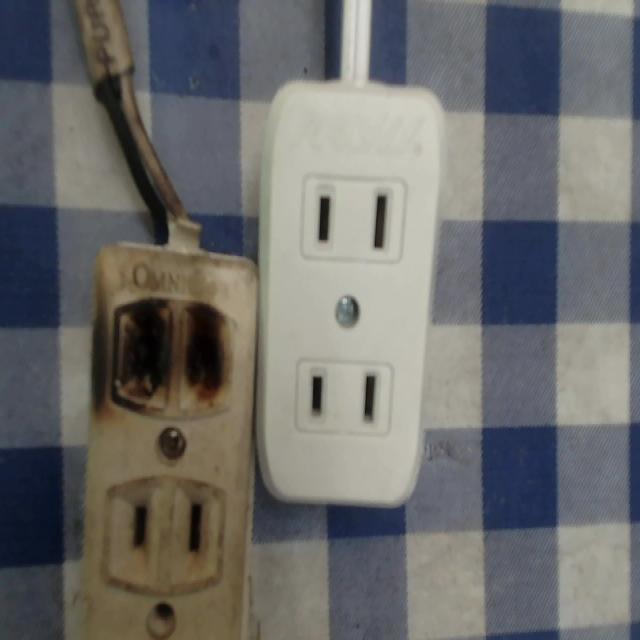-: (109, 291, 228, 412)
